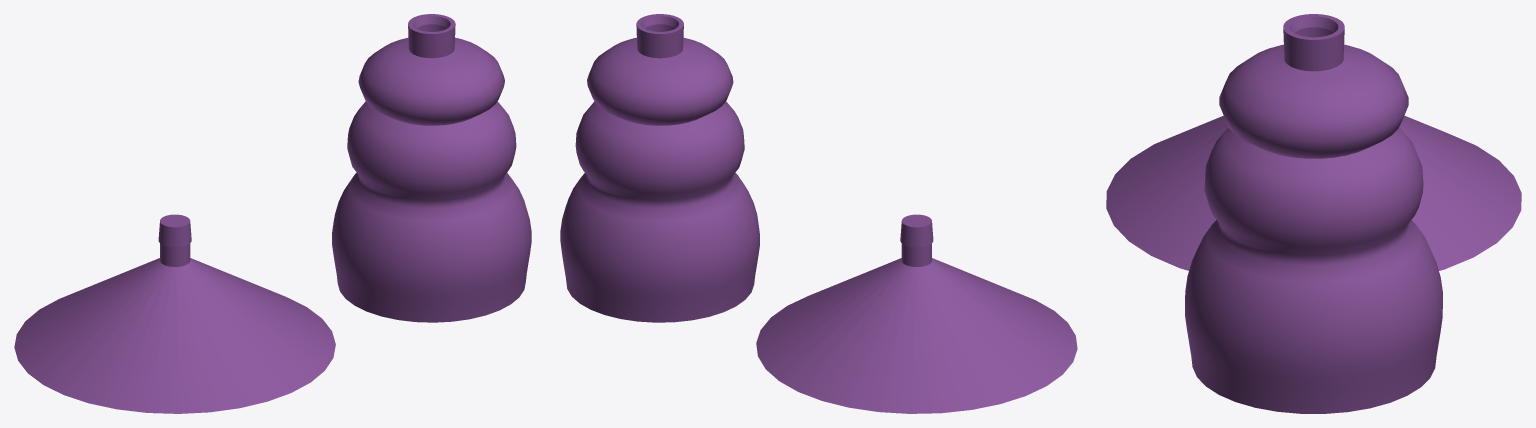
The picture shows the model from 3 angles, left to right: view 1: azimuth 30°, elevation 25°; view 2: azimuth 150°, elevation 25°; view 3: azimuth 270°, elevation 25°; orthographic projection. The views are drawn at different scales.
Visible parts, largest first — view 1: split_parent_0; view 2: split_parent_0; view 3: split_parent_0.
Boxes of the visible parts, x1,y1,x2,y2 form: split_parent_0: [14, 14, 531, 413]; split_parent_0: [560, 14, 1077, 413]; split_parent_0: [1106, 14, 1521, 413].
Bounding box in the file's own units: 1 × 0.5147 × 0.5762.
